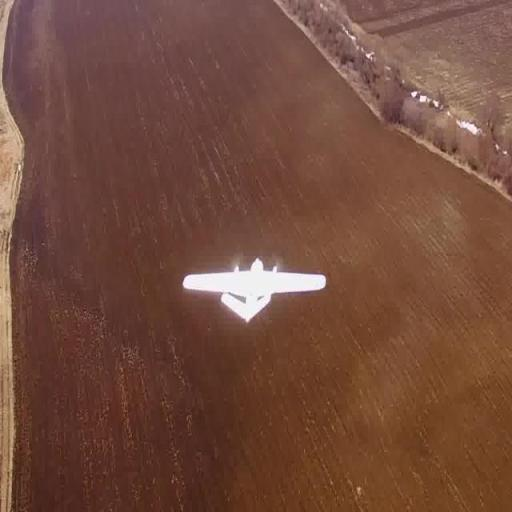uav: (177, 252, 334, 326)
